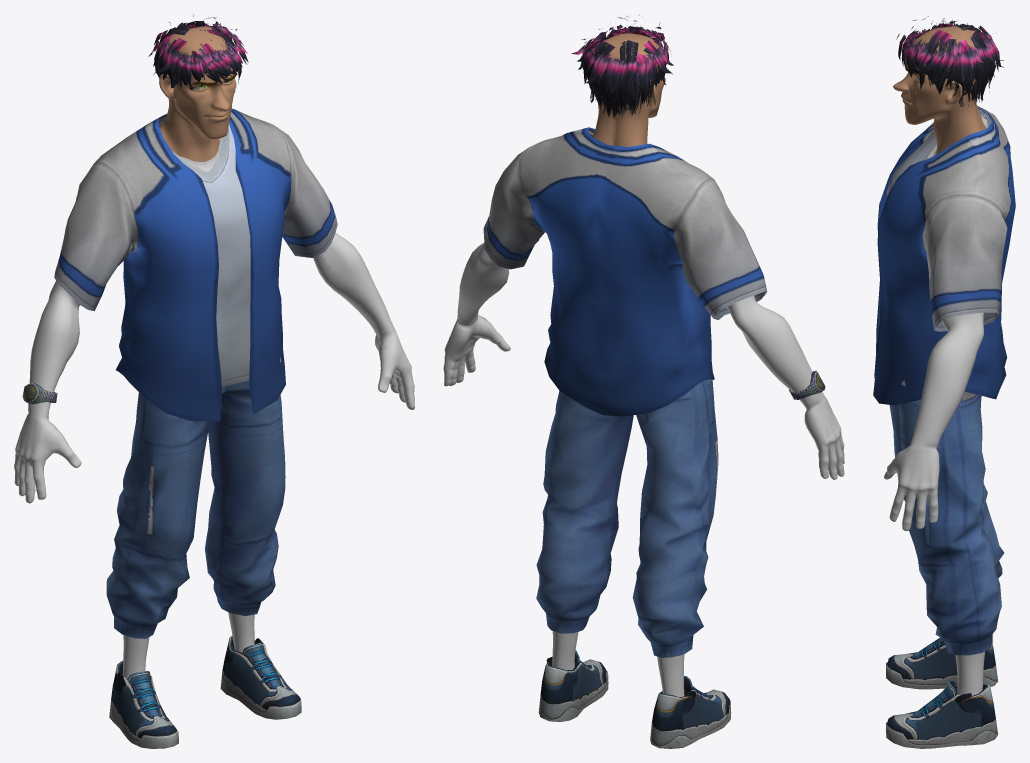
Rendered from M Character 3.fbx.
3 renders of one model, left to right at view 1: azimuth 30°, elevation 25°; view 2: azimuth 150°, elevation 25°; view 3: azimuth 270°, elevation 25°, orthographic.
Visible parts, largest first — view 1: M_shirt 1, M_pants 1, m_body, M_t shirt 1, M_shoes 3, m_head, M_hair 3, m_legs; view 2: M_shirt 1, M_pants 1, m_body, M_shoes 3, M_hair 3, m_head, m_legs; view 3: M_shirt 1, M_pants 1, m_body, M_shoes 3, M_hair 3, m_head, m_legs, M_t shirt 1.
Boxes of the visible parts, x1,y1,x2,y2 form: M_shirt 1: (54, 108, 337, 421); M_pants 1: (106, 380, 285, 638); m_body: (14, 145, 414, 503); M_t shirt 1: (75, 117, 281, 386); M_shoes 3: (109, 635, 301, 748); m_head: (159, 26, 237, 161); M_hair 3: (148, 15, 248, 91); m_legs: (122, 612, 254, 678); M_shirt 1: (483, 127, 767, 416); M_pants 1: (536, 379, 718, 657); m_body: (443, 243, 844, 479); M_shoes 3: (538, 650, 730, 748); M_hair 3: (571, 15, 673, 118); m_head: (593, 33, 666, 146); m_legs: (552, 631, 684, 696); M_shirt 1: (873, 106, 1015, 405); M_pants 1: (889, 392, 1004, 655); m_body: (884, 116, 986, 530); M_shoes 3: (886, 637, 998, 748); M_hair 3: (896, 16, 1004, 107); m_head: (893, 26, 986, 153); m_legs: (955, 651, 984, 696); M_t shirt 1: (879, 111, 994, 386).
Bounding box in the file's own units: 117 × 201 × 37.45.
